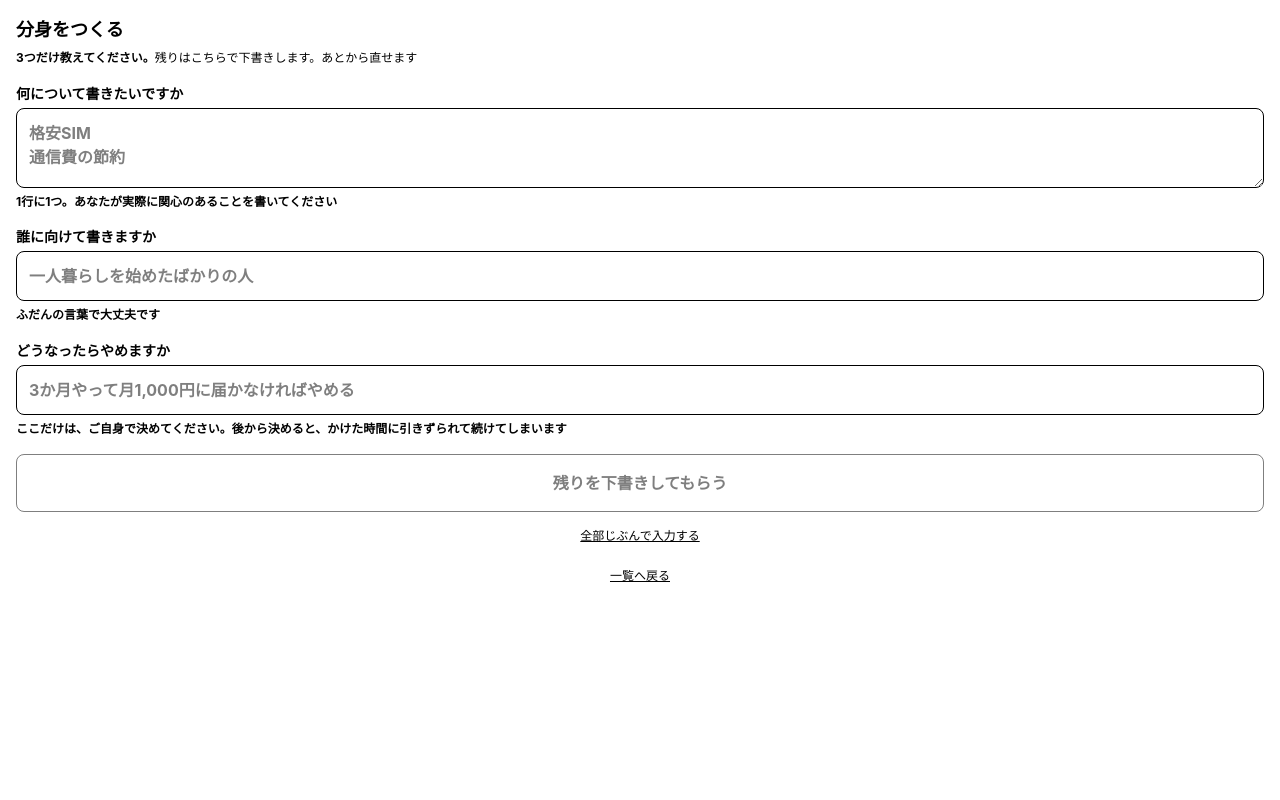
Test: うまくいかないとき › 失敗しても答えは残る
Type "格安SIM" into the text box labelled "何について書きたいですか" at (640, 148), box top-left (16, 108), bottom-right (1264, 188)
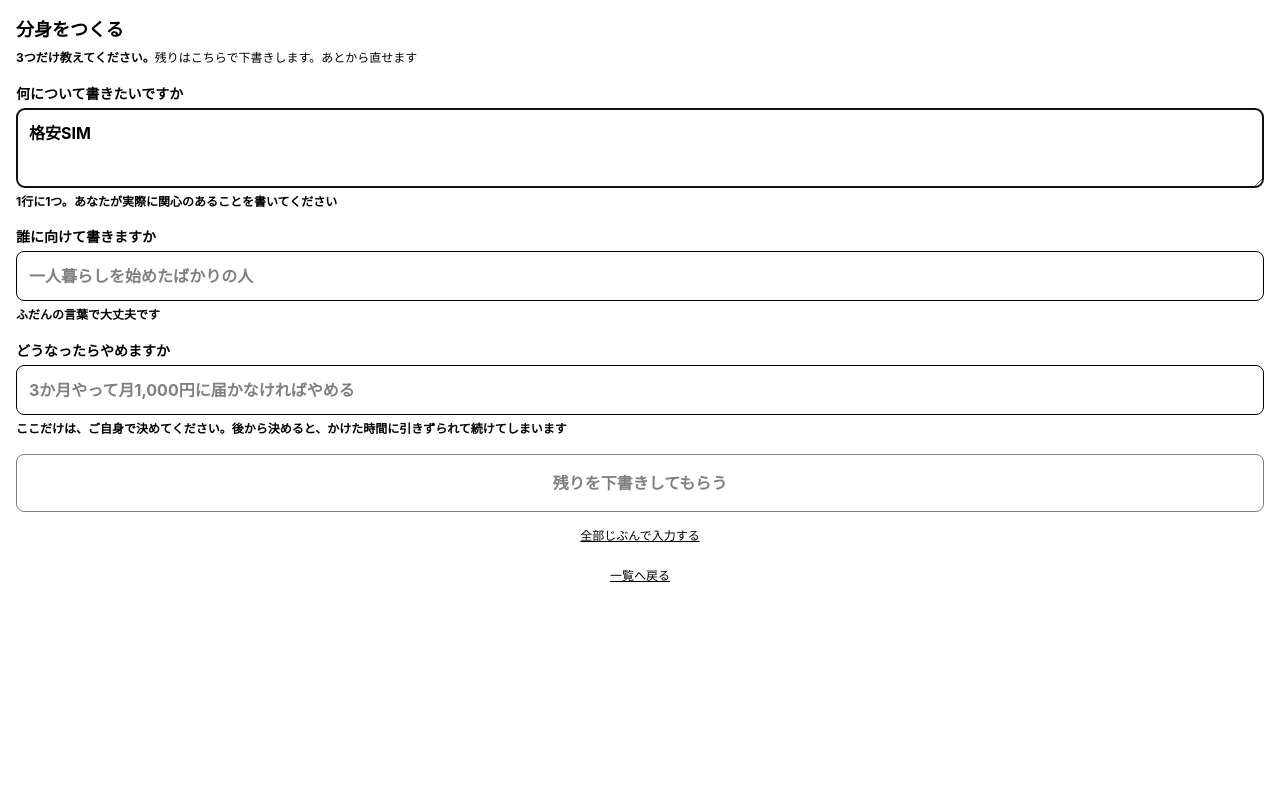
Type "一人暮らし" into the field labelled "誰に向けて書きますか ふだんの言葉で大丈夫です" at (640, 276), box top-left (16, 251), bottom-right (1264, 301)
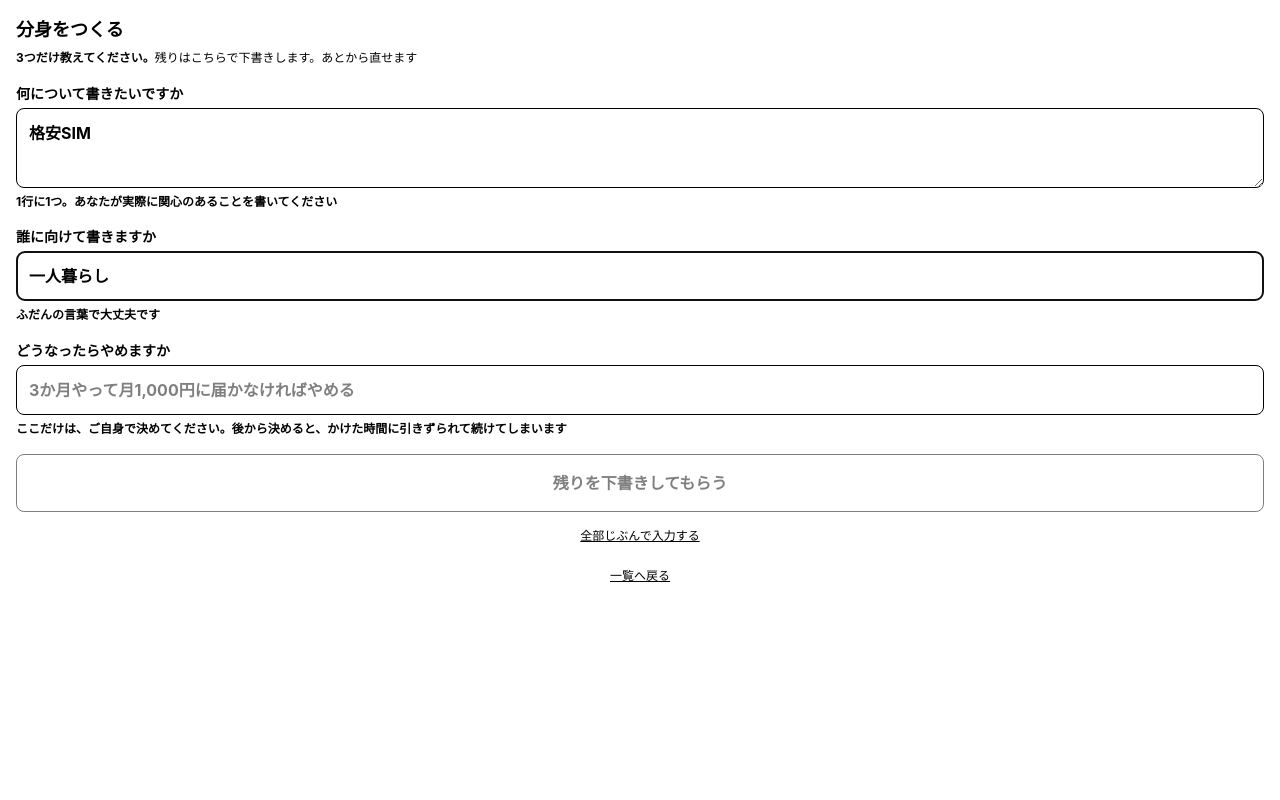
Type "3か月で見直す" into the field labelled "どうなったらやめますか ここだけは、ご自身で決めてください。後から決めると、かけた時間に引きずられて続けてしまいます" at (640, 390), box top-left (16, 364), bottom-right (1264, 414)
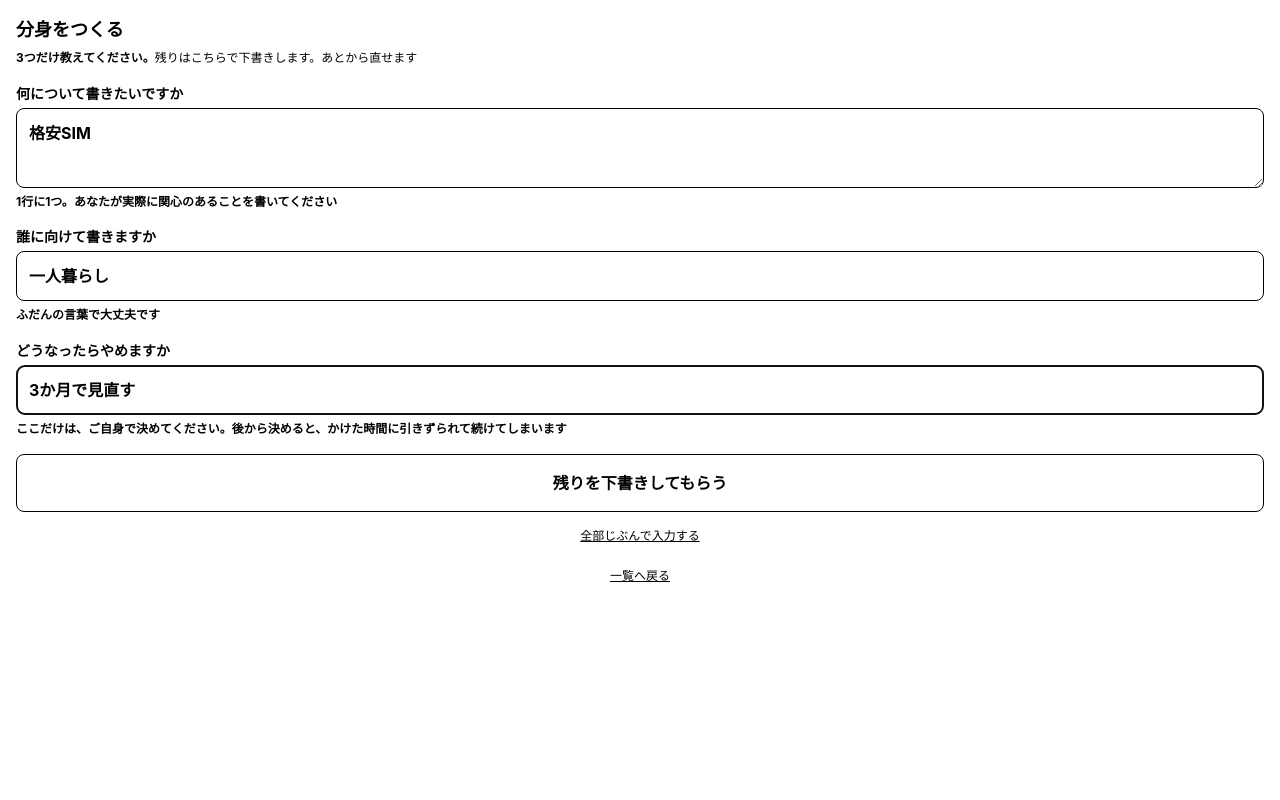
Click the button "残りを下書きしてもらう" at (640, 483), box top-left (16, 454), bottom-right (1264, 512)
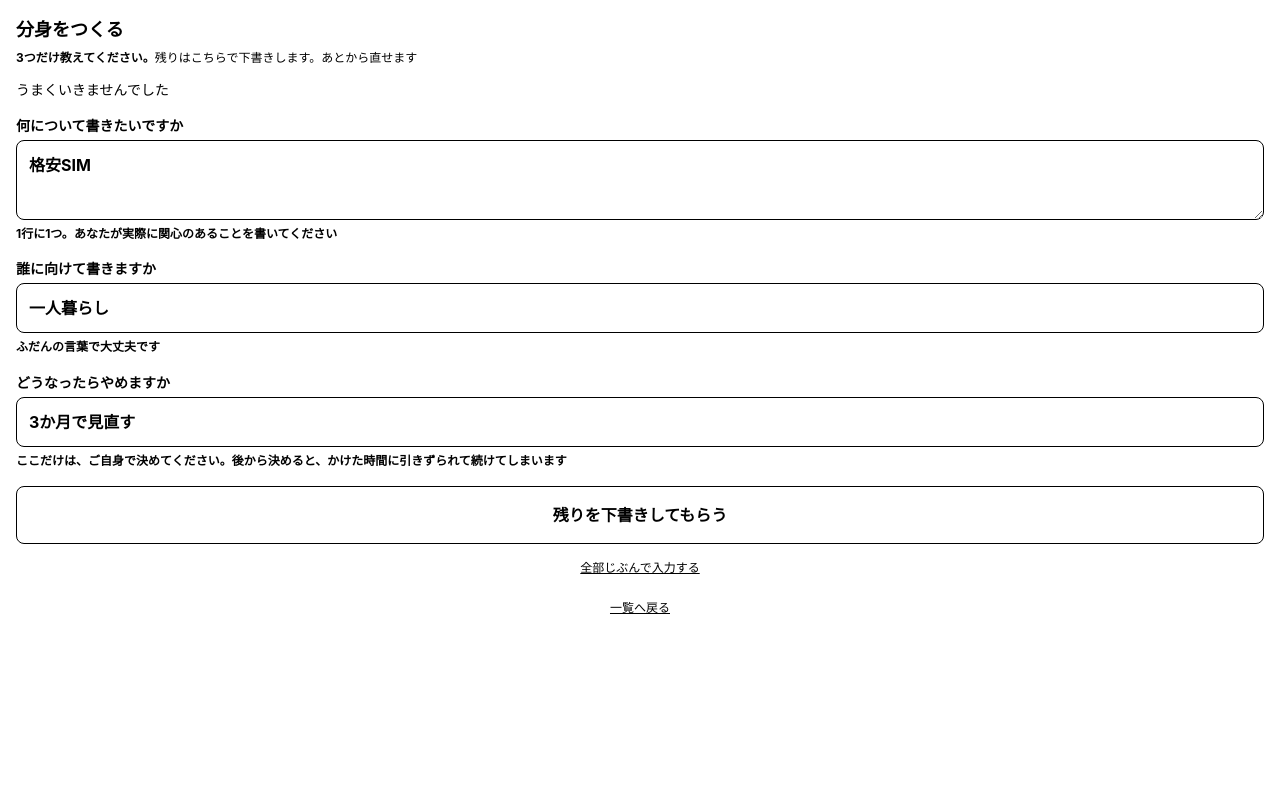
Expected: the message "うまくいきませんでした" is shown, top-left (16, 80), bottom-right (169, 98)
